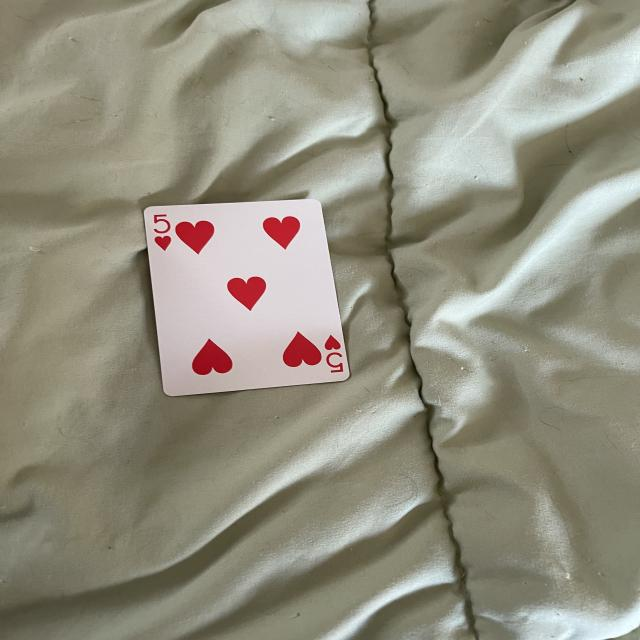5 of hearts: (143, 198, 354, 402)
